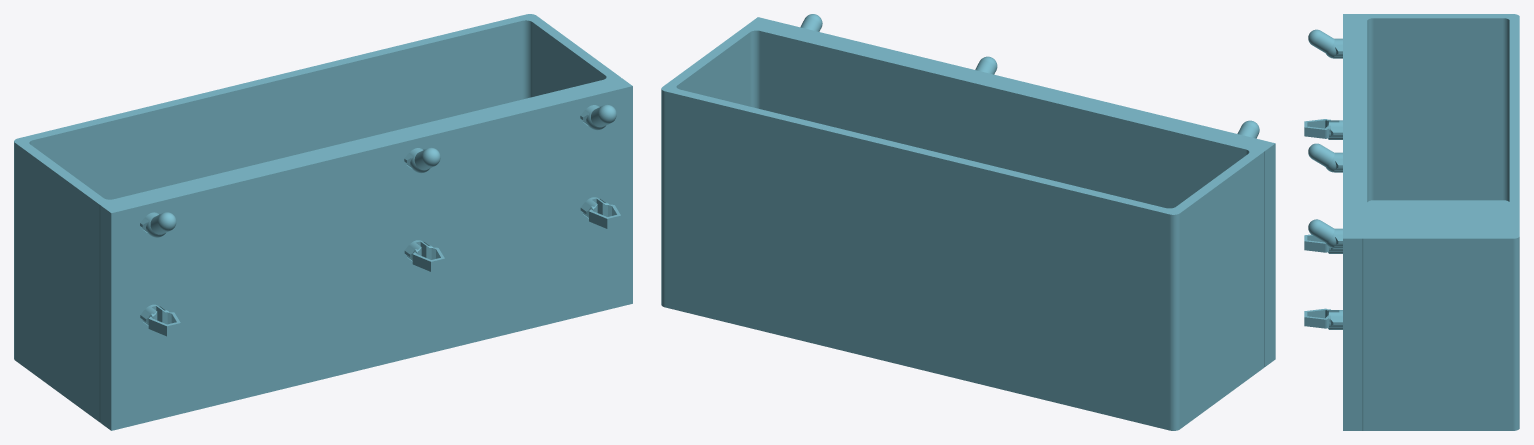
File: part-pb02__current-mounts-v1__fit-pf02c9-hoop5__print.glb
The picture shows the model from 3 angles, left to right: view 1: azimuth 30°, elevation 25°; view 2: azimuth 150°, elevation 25°; view 3: azimuth 270°, elevation 25°; orthographic projection. The views are drawn at different scales.
Visible parts, largest first — view 1: print.stl; view 2: print.stl; view 3: print.stl.
Part boxes in pixels (x1,y1,x2,y2): print.stl: [14, 14, 632, 430]; print.stl: [661, 14, 1275, 430]; print.stl: [1304, 14, 1519, 430].
Size of the model in its own units: 0.1504 by 0.0603 by 0.0609.
